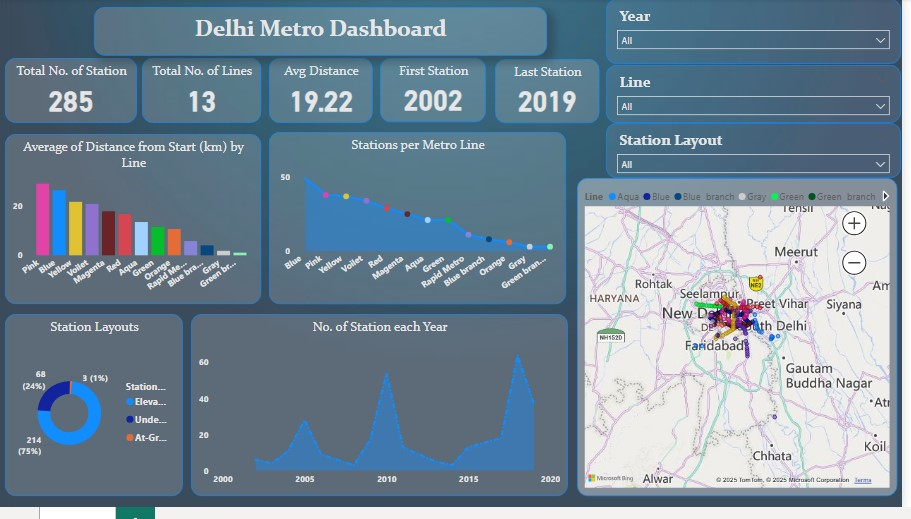

The dashboard page shown, as its layout file describes it:
{"tool":"powerbi","page":{"name":"Page 1","canvas":[1280,720],"ordinal":0},"visuals":[{"type":"columnChart","fields":{"Y":["Avg(Delhi-Metro-Network.Distance from Start (km))"],"Category":["Delhi-Metro-Network.Line"]},"box":[9.9,191.3,362.8,240.9],"z":0},{"type":"donutChart","title":"Station Layouts","fields":{"Category":["Delhi-Metro-Network.Station Layout"],"Y":["CountNonNull(Delhi-Metro-Network.Station Name)"]},"box":[9.9,446.5,252.3,258],"z":1000},{"type":"card","title":"Total No. of Station","fields":{"Values":["CountNonNull(Delhi-Metro-Network.Station ID)"]},"box":[9.9,83.6,187.1,92.1],"z":2000},{"type":"areaChart","title":"No. of Station each Year","fields":{"Category":["Delhi-Metro-Network.Year"],"Y":["CountNonNull(Delhi-Metro-Network.Station ID)"]},"box":[273.5,446.5,534.3,258],"z":3000},{"type":"card","title":"Total No. of Lines","fields":{"Values":["Count(Delhi-Metro-Network.Line)"]},"box":[204.1,83.6,168.7,92.1],"z":4000},{"type":"map","fields":{"Y":["Delhi-Metro-Network.Latitude"],"X":["Delhi-Metro-Network.Longitude"],"Series":["Delhi-Metro-Network.Line"]},"box":[820.6,253.7,453.5,450.7],"z":5000},{"type":"card","title":"Avg Distance","fields":{"Values":["Avg(Delhi-Metro-Network.Distance from Start (km))"]},"box":[384.1,83.6,147.4,92.1],"z":6000},{"type":"card","title":"First Station","fields":{"Values":["Min(Delhi-Metro-Network.Year)"]},"box":[541.4,83.6,150.2,90.7],"z":7000},{"type":"card","title":"Last Station","fields":{"Values":["Max(Delhi-Metro-Network.Year)"]},"box":[703.8,85.7,147.8,90.7],"z":8000},{"type":"textbox","box":[136.1,11.3,642,69.4],"z":9000},{"type":"areaChart","title":"Stations per Metro Line","fields":{"Category":["Delhi-Metro-Network.Line"],"Y":["CountNonNull(Delhi-Metro-Network.Station ID)"]},"box":[384.1,188.5,420.9,243.8],"z":10000},{"type":"slicer","fields":{"Values":["Delhi-Metro-Network.Year"]},"box":[861.7,0,418.1,92.1],"z":11000},{"type":"slicer","fields":{"Values":["Delhi-Metro-Network.Line"]},"box":[861.7,93.5,418.1,82.2],"z":11001},{"type":"slicer","fields":{"Values":["Delhi-Metro-Network.Station Layout"]},"box":[861.7,175.7,418.1,78],"z":11002}]}

Visuals, with their boxes in screenshot pixels (x1, y1, x2, y2), scaled from the page's 1280x720 canvas onto the 911x519 screenshot:
columnChart - Avg(Delhi-Metro-Network.Distance from Start (km)) x Delhi-Metro-Network.Line: 7,138,265,312
"Station Layouts" donutChart: 7,322,187,508
"Total No. of Station" card: 7,60,140,127
"No. of Station each Year" areaChart: 195,322,575,508
"Total No. of Lines" card: 145,60,265,127
map - Delhi-Metro-Network.Latitude x Delhi-Metro-Network.Longitude: 584,183,907,508
"Avg Distance" card: 273,60,378,127
"First Station" card: 385,60,492,126
"Last Station" card: 501,62,606,127
textbox: 97,8,554,58
"Stations per Metro Line" areaChart: 273,136,573,312
slicer - Delhi-Metro-Network.Year: 613,0,910,66
slicer - Delhi-Metro-Network.Line: 613,67,910,127
slicer - Delhi-Metro-Network.Station Layout: 613,127,910,183
